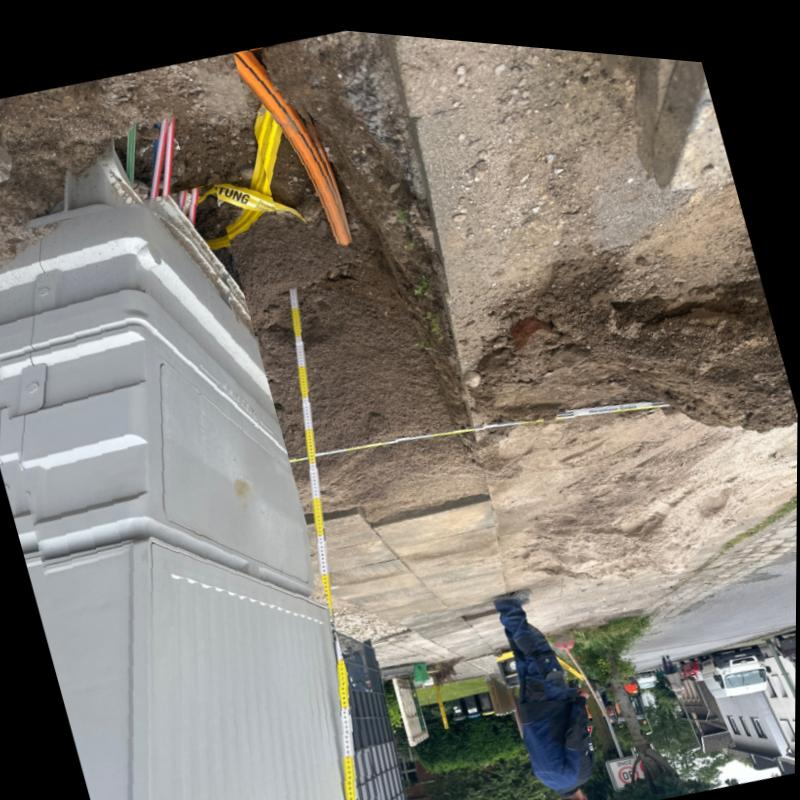NT-Gehause: (0, 200, 345, 800)
Orang-Speednetrohrchen: (233, 45, 352, 237)
